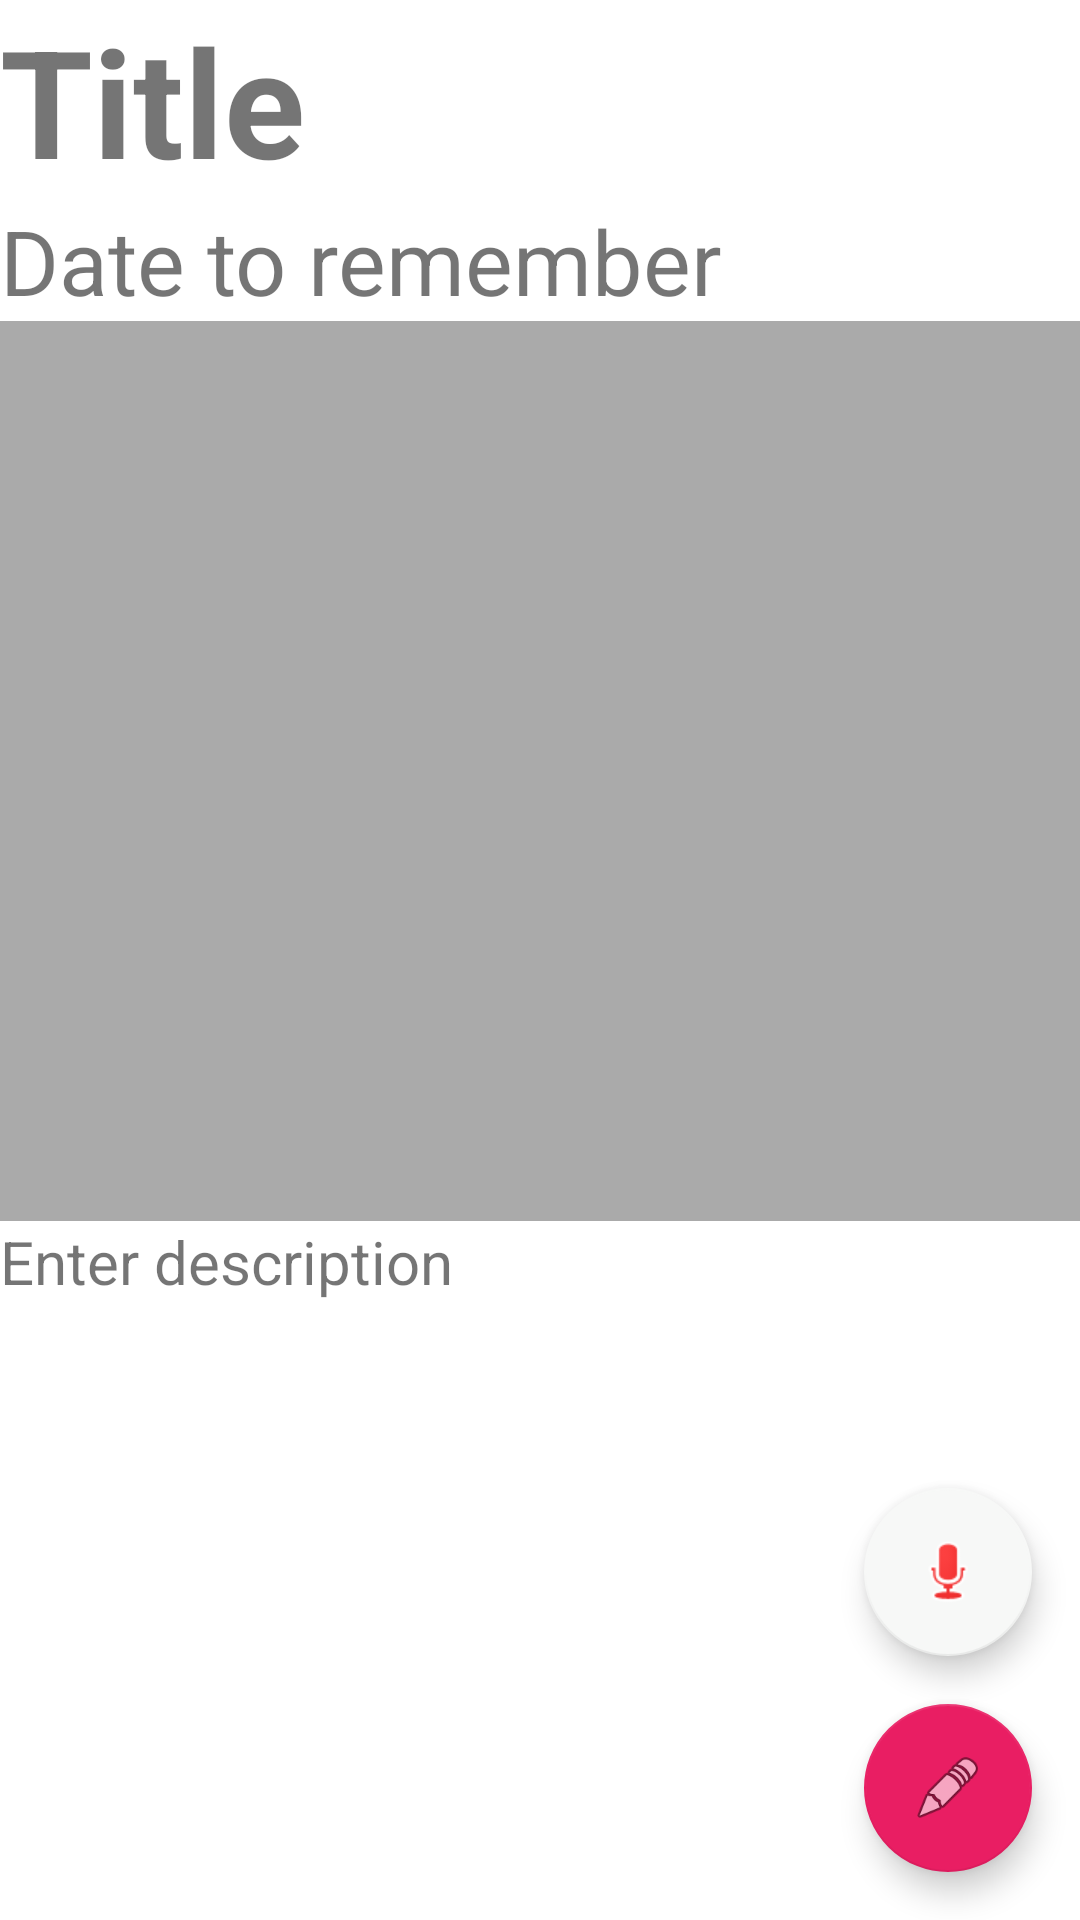

Screen size 1080w x 1920h. Icon name, then its center in pixels as point (x, y):
edit: point (948, 1788)
presence audio busy: point (951, 1599)
